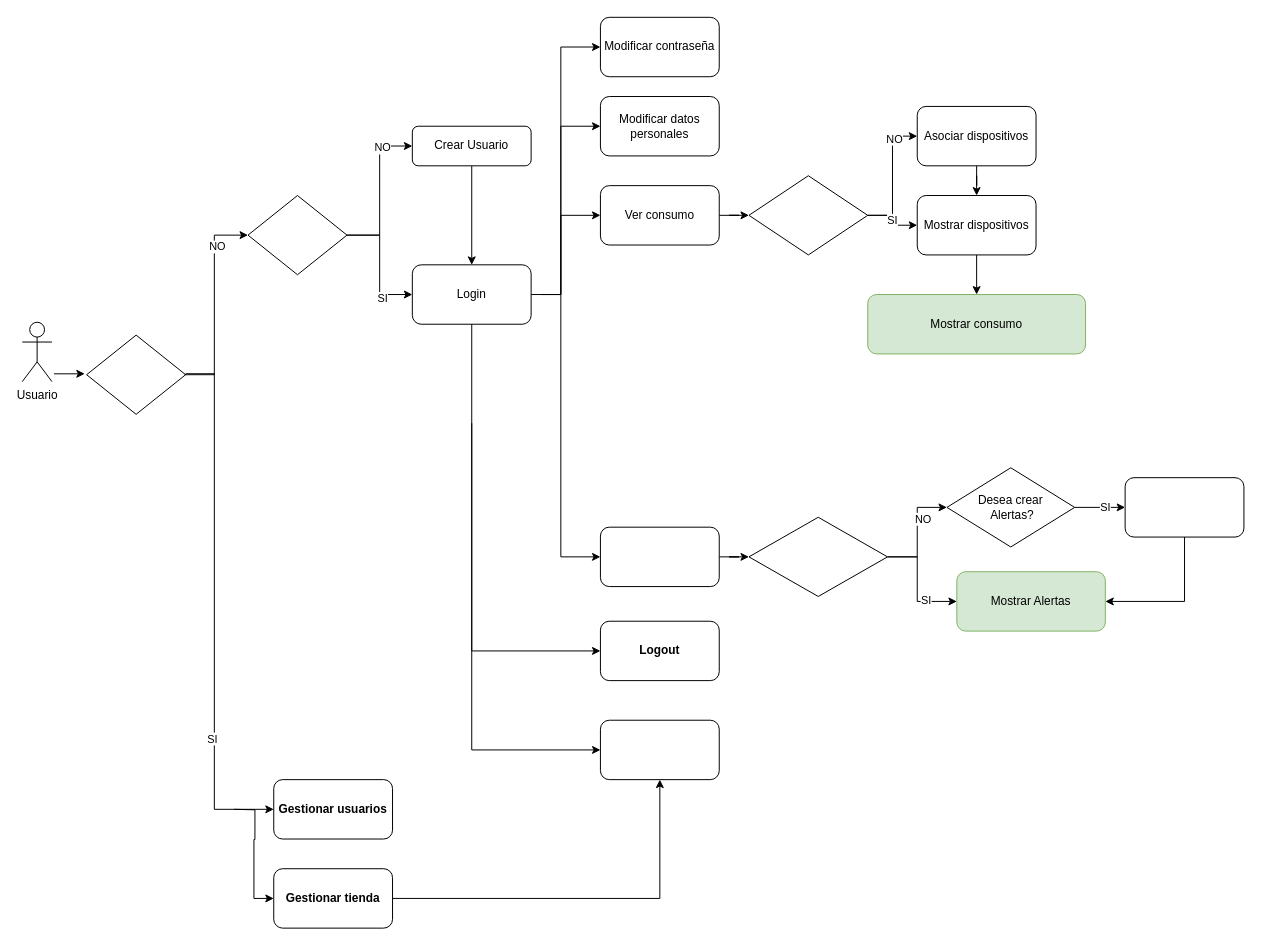
Image size: 1261x945. Some labels were removed from this diagram. The shapes that lost their labels are listed below. From the top down, each one's box as (x1, y1, x2, y2) in pixels, then its label:
(247, 195, 347, 275): Usuario existente?
(748, 175, 868, 255): Tiene dispositivos asociados?
(86, 334, 186, 414): Usuario administrador
(1124, 477, 1244, 537): Crear alerta
(599, 526, 719, 587): Ver alertas
(748, 516, 888, 596): Tiene alertas creadas?
(599, 719, 719, 780): Ver tienda
